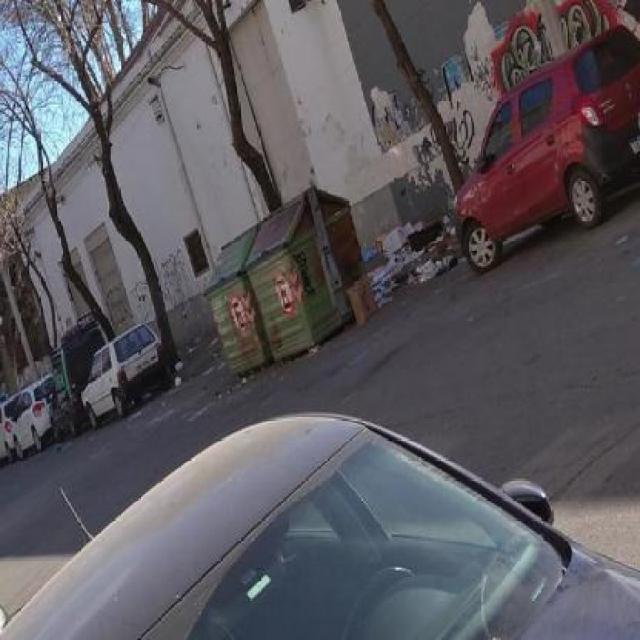garbage: (365, 199, 446, 286), (343, 273, 364, 329), (365, 231, 399, 258), (168, 346, 182, 393)
